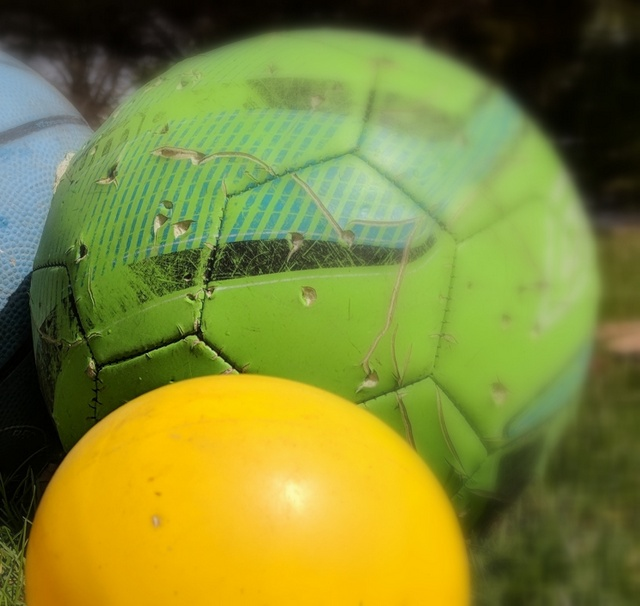ball: (29, 24, 606, 546)
